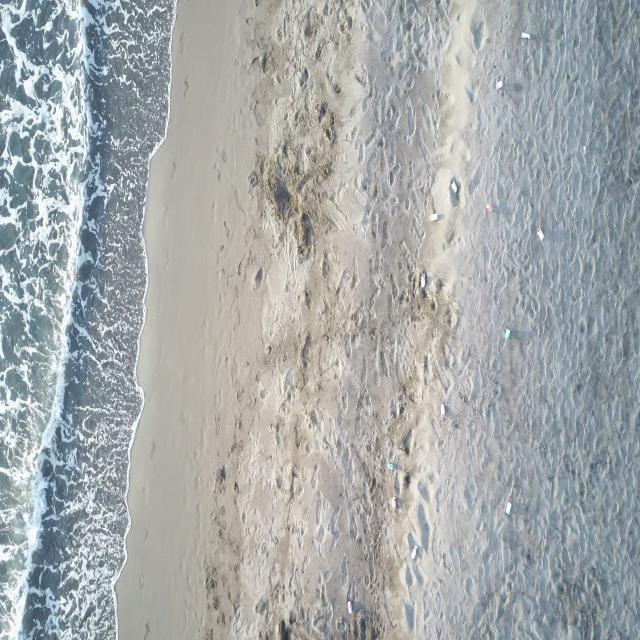Garbage: (449, 178, 459, 204), (449, 179, 457, 193), (420, 272, 426, 288), (484, 200, 492, 212), (536, 227, 543, 240), (411, 544, 417, 559), (391, 495, 397, 508), (504, 502, 511, 513), (495, 79, 503, 88), (504, 327, 510, 339), (347, 600, 352, 613), (387, 462, 395, 470), (430, 212, 439, 219), (520, 32, 528, 39), (440, 404, 444, 416), (583, 144, 586, 152)
